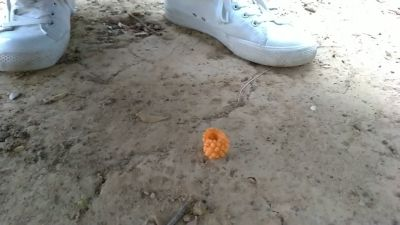eggs: (202, 126, 232, 161)
